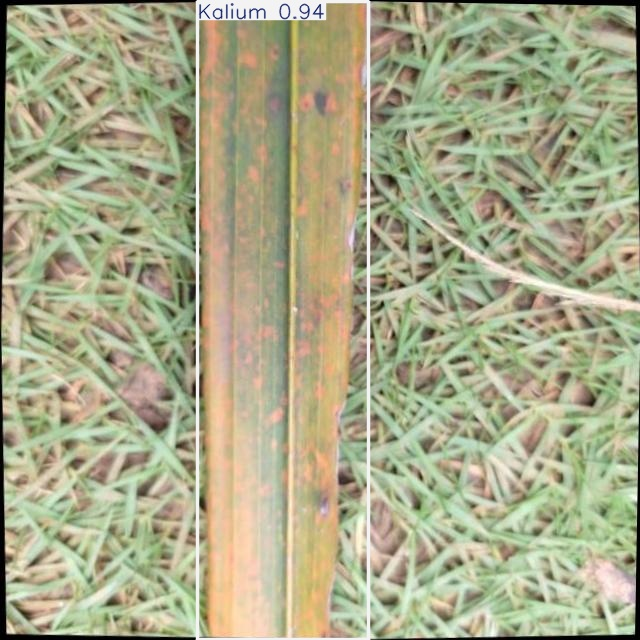Kalium: (198, 2, 369, 640)
